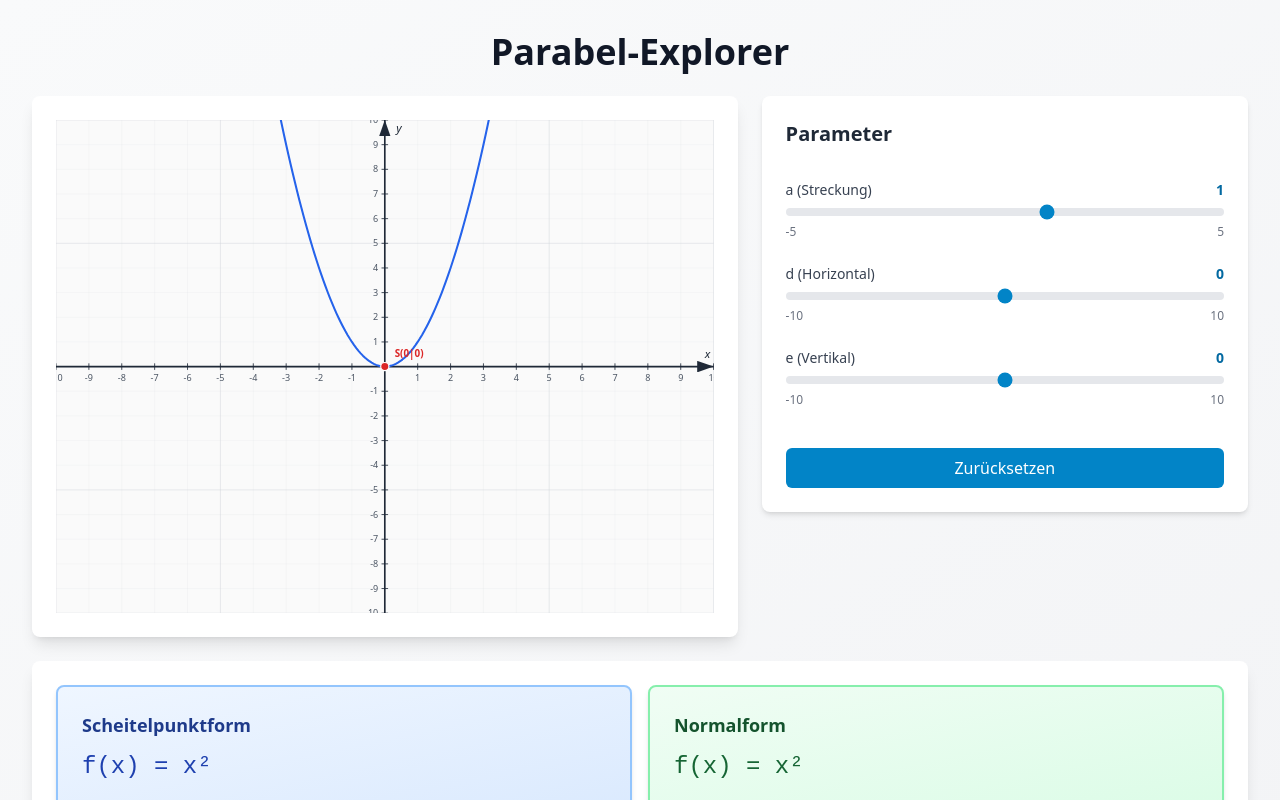
Test: ExplorerPage › displays warning when a = 0
// Change 'a' to 0
Set the slider named "a (Streckung) parameter" to "0" at (1005, 212), box 786,208 -> 1224,216
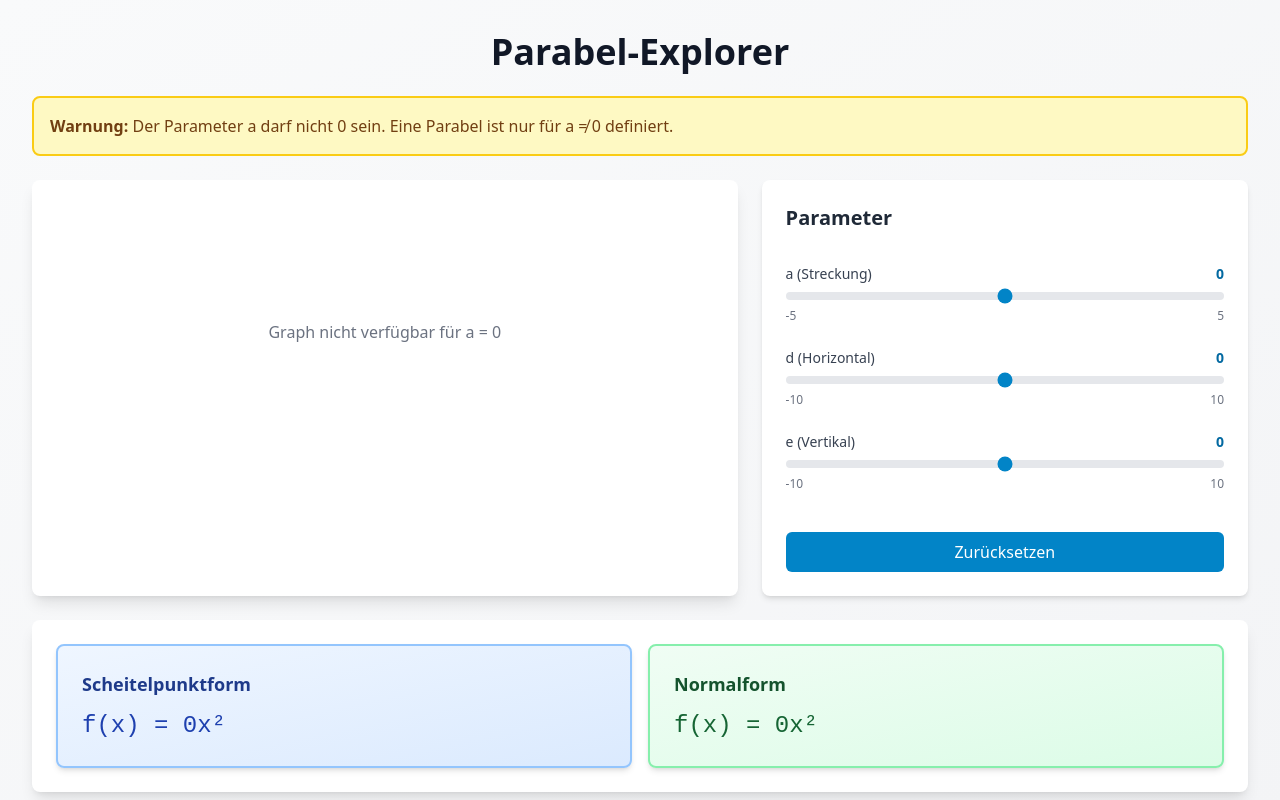
Result: the message with test id "warning-a-zero" is shown at 32,96 -> 1248,156
Result: the text "Der Parameter a darf nicht 0 sein" is shown at 128,115 -> 673,137
